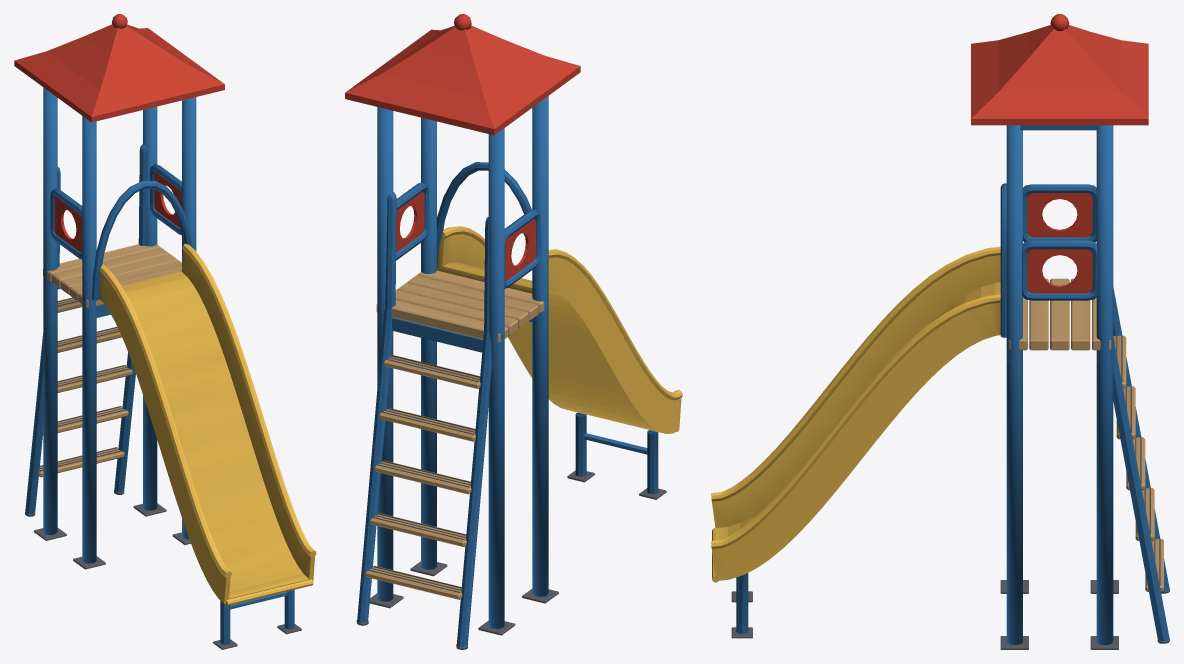
File: slide.glb
The picture shows the model from 3 angles, left to right: view 1: azimuth 30°, elevation 25°; view 2: azimuth 150°, elevation 25°; view 3: azimuth 270°, elevation 25°; orthographic projection. The views are drawn at different scales.
Visible parts, largest first — view 1: slide; view 2: slide; view 3: slide.
Part boxes in pixels (x1,y1,x2,y2): slide: [14, 14, 316, 649]; slide: [345, 14, 682, 649]; slide: [711, 14, 1169, 649].
Size of the model in its own units: 0.75 by 2.8 by 1.94.
